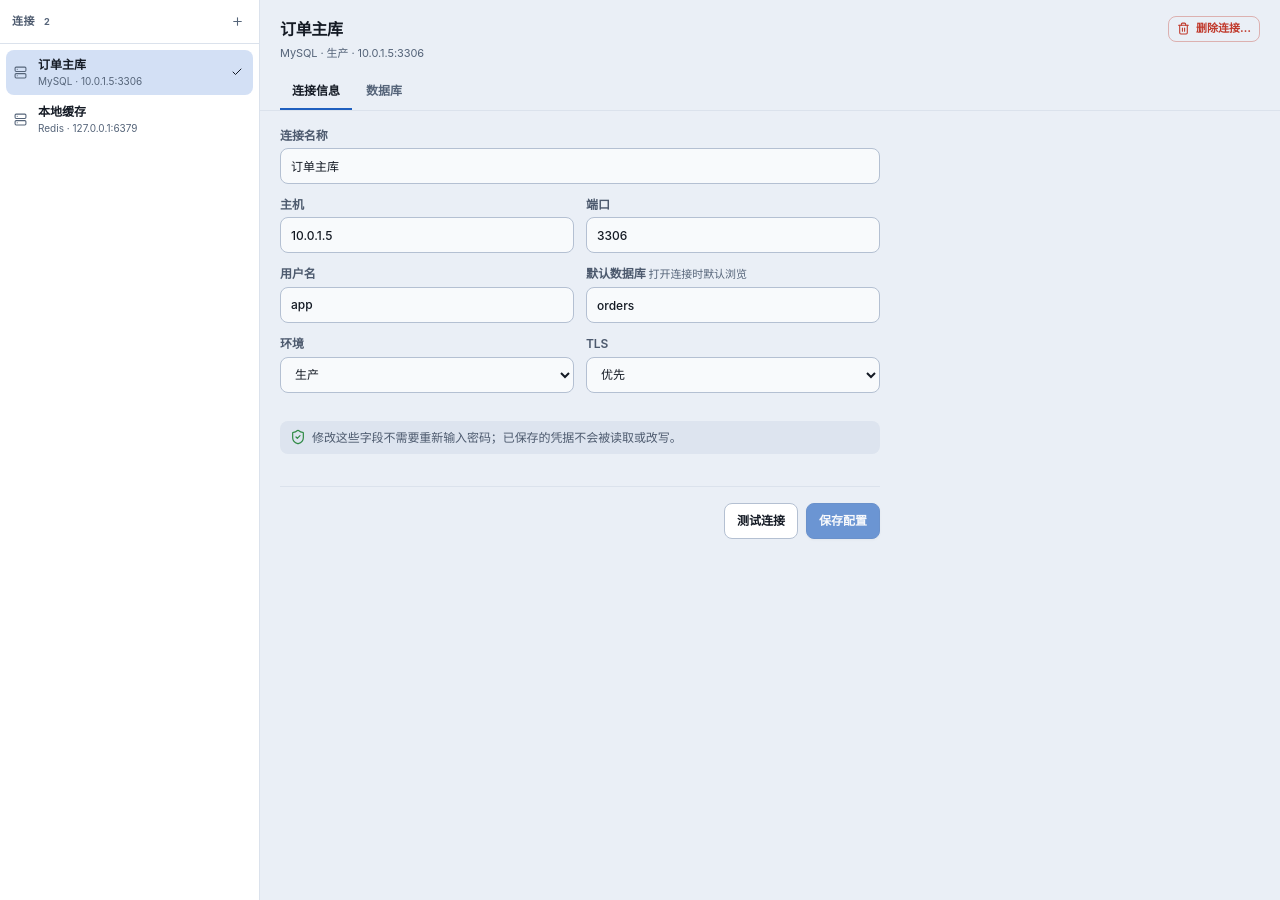
Scenario: ConnectionManager › edits a saved profile without asking for its password
Expected: the text "修改这些字段不需要重新输入密码；已保存的凭据不会被读取或改写。" is shown, [280, 421, 880, 454]
Expected: the button "保存配置" is disabled, [806, 503, 880, 539]
Replace the text in the field labelled "连接名称" with "订单生产库". click: (580, 166)
box: [280, 148, 880, 184]
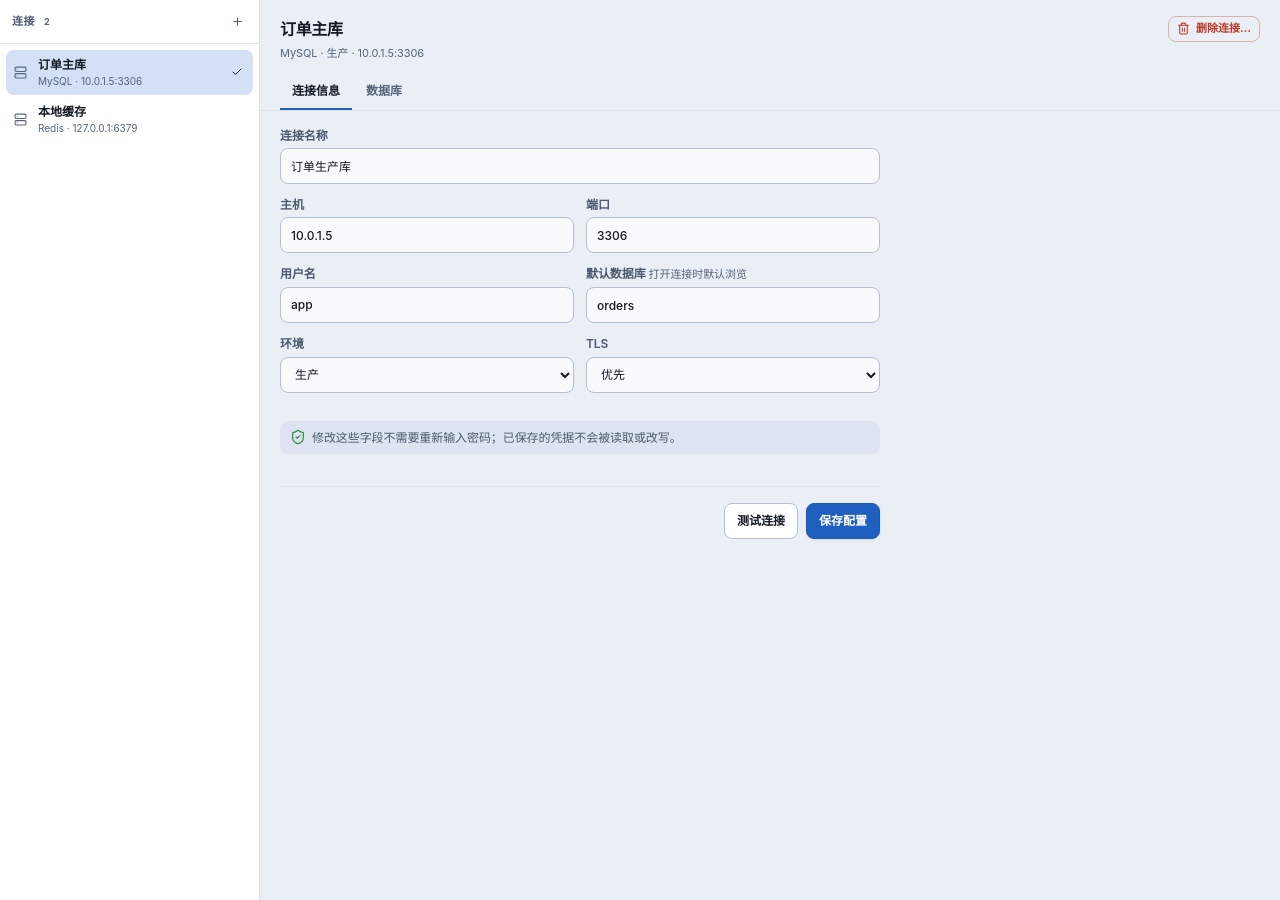
Result: the button "保存配置" is enabled
Click the button "保存配置". click: (843, 521)
box: [806, 503, 880, 539]
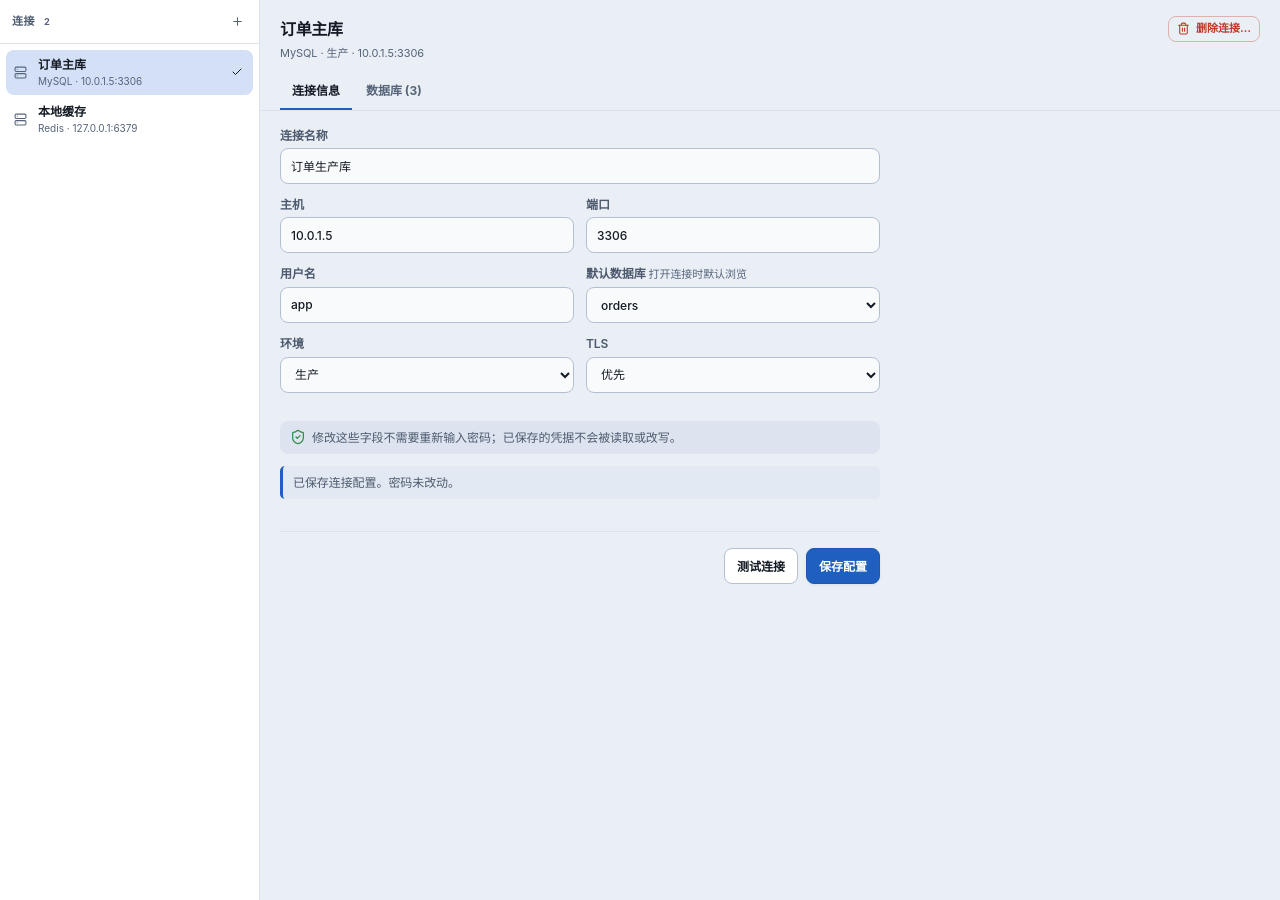
Result: the message reads "已保存连接配置。密码未改动。" at [293, 475, 460, 490]
